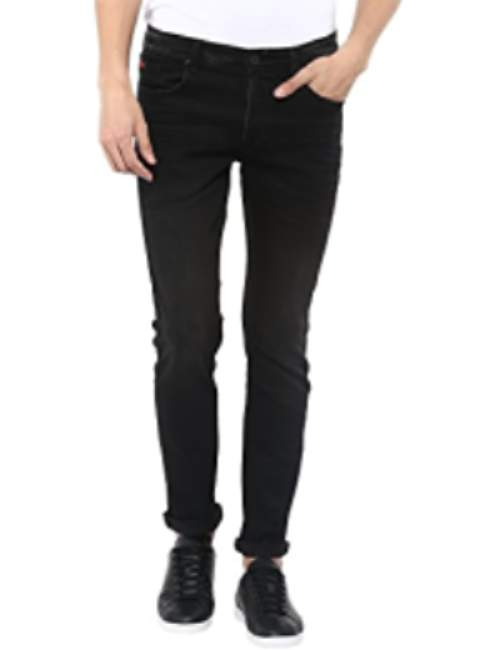Jeans: (123, 20, 352, 572)
